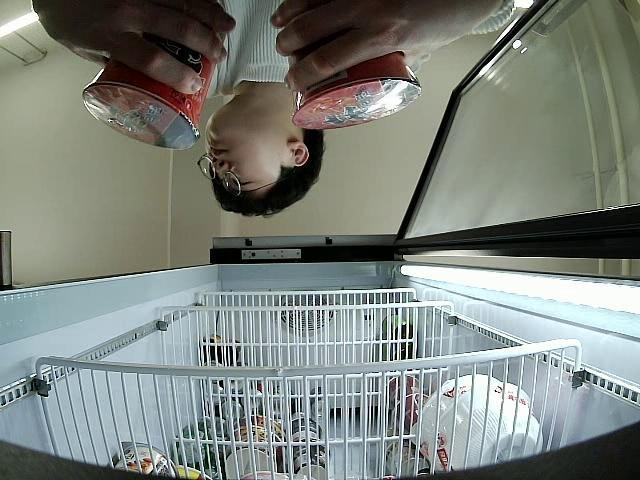02_shinRamen_S: (83, 6, 216, 148), (292, 1, 421, 130)
